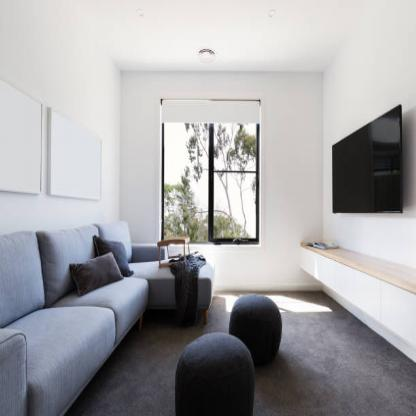Frame: (0, 80, 44, 194), (50, 110, 101, 201)
Window: (158, 101, 262, 245)
